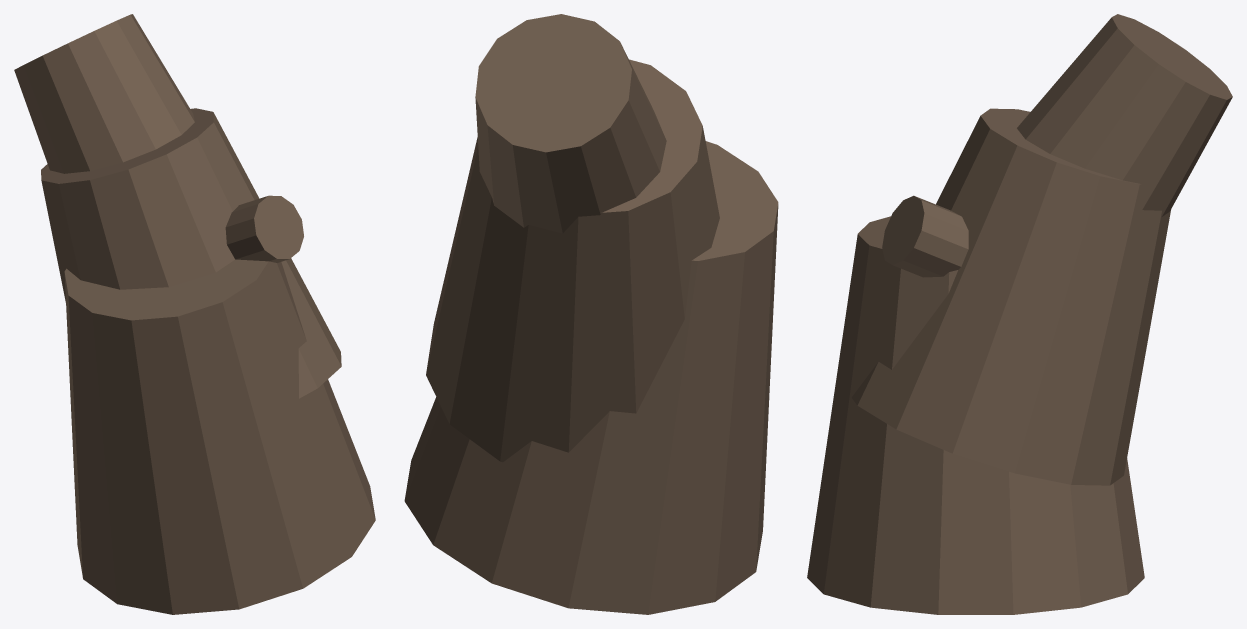
The model's file is driftwood.glb.
3 renders of one model, left to right at view 1: azimuth 30°, elevation 25°; view 2: azimuth 150°, elevation 25°; view 3: azimuth 270°, elevation 25°, orthographic. The views are drawn at different scales.
Visible parts, largest first — view 1: Cylinder, Cylinder.001, Cylinder.002, Cylinder.003; view 2: Cylinder, Cylinder.001, Cylinder.002; view 3: Cylinder.001, Cylinder, Cylinder.002, Cylinder.003.
Boxes of the visible parts, x1,y1,x2,y2 form: Cylinder: (64,259,375,614); Cylinder.001: (41,108,341,398); Cylinder.002: (14,14,194,173); Cylinder.003: (225,195,303,262); Cylinder: (404,141,778,614); Cylinder.001: (426,59,719,462); Cylinder.002: (475,14,666,233); Cylinder.001: (851,108,1170,485); Cylinder: (807,216,1144,614); Cylinder.002: (1017,14,1232,216); Cylinder.003: (882,195,968,277).
Size of the model in its own units: 1.13 by 2 by 1.39.
